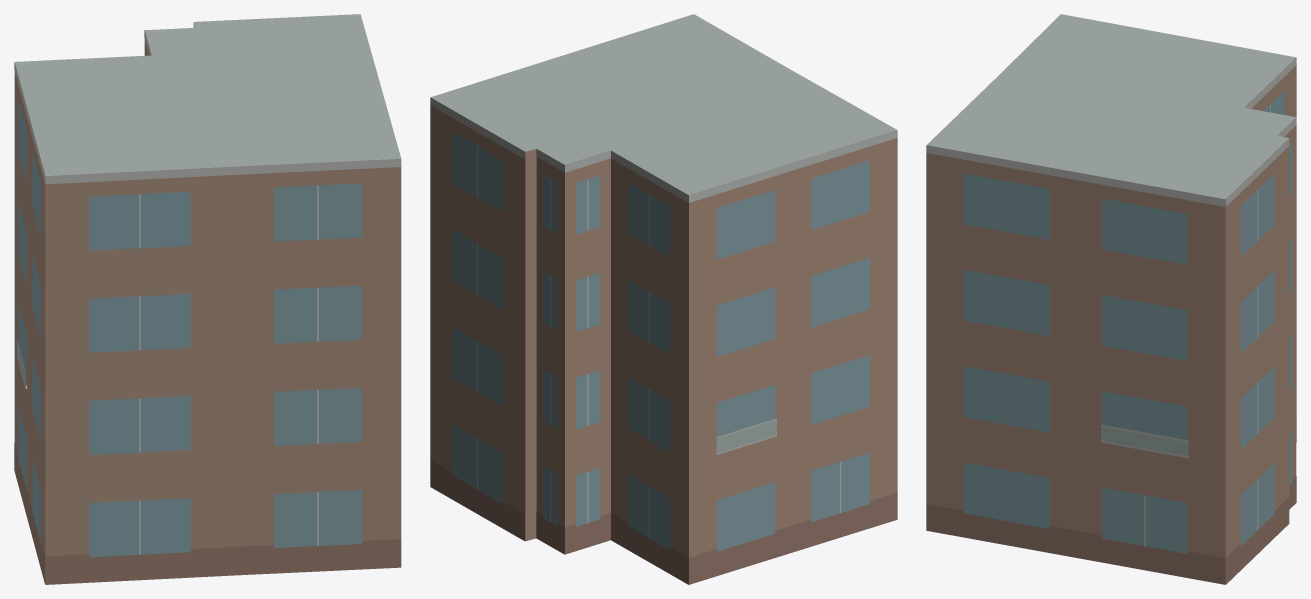
File: survey-upis-32657148.glb
3 renders of one model, left to right at view 1: azimuth 30°, elevation 25°; view 2: azimuth 150°, elevation 25°; view 3: azimuth 270°, elevation 25°, orthographic. The views are drawn at different scales.
Parts seen in each view (by area): view 1: survey-upis-32657148.tmp; view 2: survey-upis-32657148.tmp; view 3: survey-upis-32657148.tmp.
Boxes of the visible parts, <box> form: survey-upis-32657148.tmp: <box>14,14,401,584</box>; survey-upis-32657148.tmp: <box>430,14,897,584</box>; survey-upis-32657148.tmp: <box>926,14,1296,584</box>.
Bounding box in the file's own units: 12.59 × 12.2 × 10.62.
